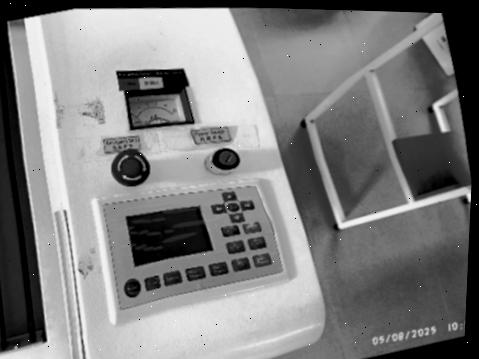Amp_Meter: (126, 89, 192, 128)
Display: (126, 206, 213, 266)
Down_button: (229, 213, 244, 223)
Emergency_Stop: (110, 148, 150, 186)
Enter_button: (242, 222, 261, 233)
Esc_button: (221, 225, 240, 237)
File_button: (231, 257, 250, 271)
Frame_button: (247, 236, 266, 250)
Left_button: (210, 203, 226, 214)
Max-Power_button: (208, 261, 228, 276)
Min-Power_button: (185, 266, 205, 281)
Origin_button: (225, 240, 245, 254)
Power_switch: (204, 147, 240, 175)
Pulse_button: (144, 275, 160, 291)
Reset_button: (123, 278, 140, 297)
Right_button: (239, 200, 254, 210)
Speed_button: (162, 271, 182, 286)
Start-Pause_button: (252, 253, 271, 267)
Up_button: (221, 191, 236, 201)
Z_U_button: (226, 202, 239, 212)
